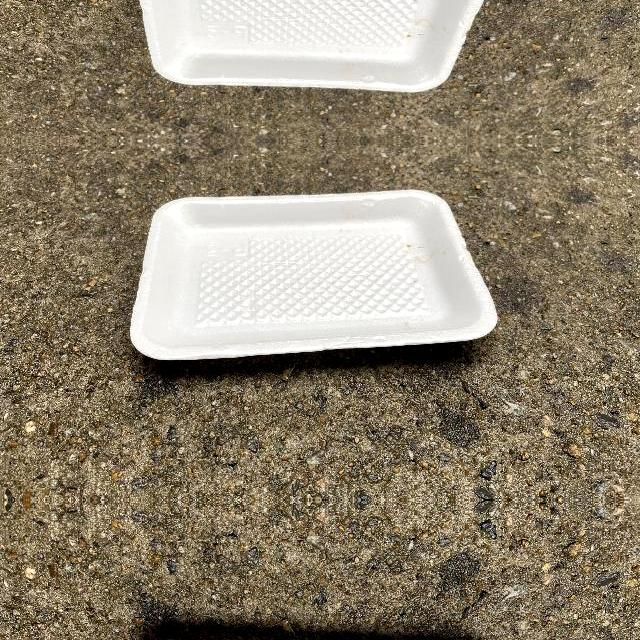Styrofoam: (132, 188, 500, 362), (130, 188, 498, 359), (132, 0, 500, 92), (139, 0, 484, 92)
